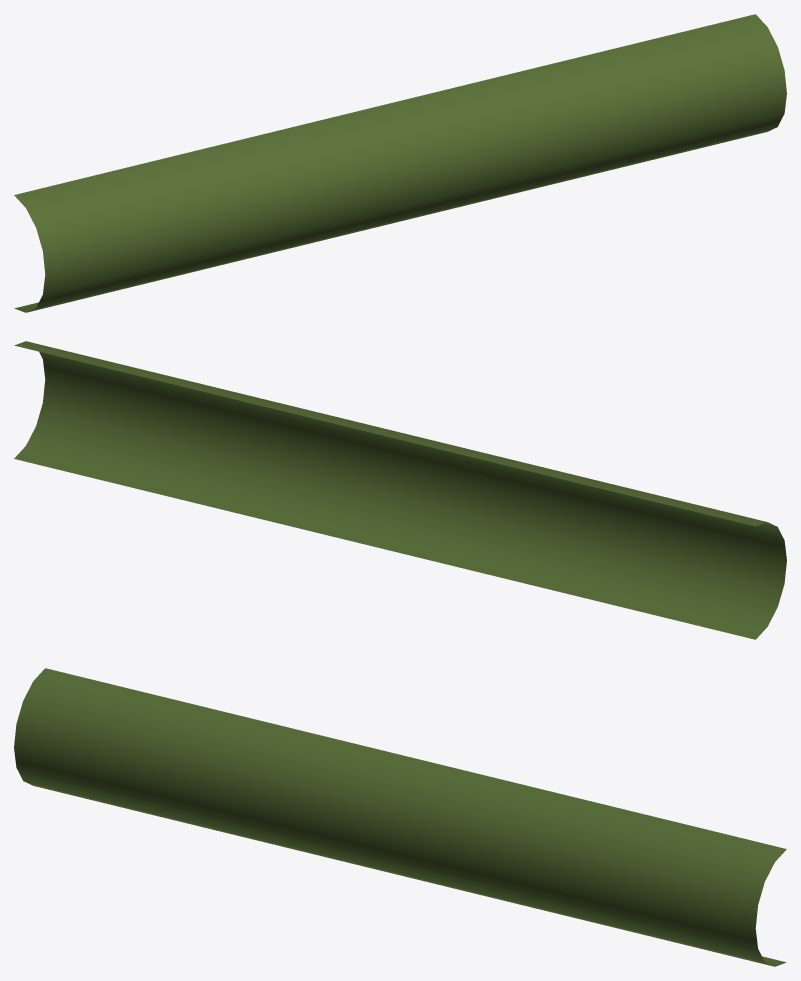
File: bazooka_view.glb
The picture shows the model from 3 angles, top to bottom: view 1: azimuth 30°, elevation 25°; view 2: azimuth 150°, elevation 25°; view 3: azimuth 330°, elevation 25°; orthographic projection.
Visible parts, largest first — view 1: Cylinder; view 2: Cylinder; view 3: Cylinder.
Boxes of the visible parts, x1,y1,x2,y2 form: Cylinder: (14, 14, 786, 312); Cylinder: (14, 341, 786, 639); Cylinder: (14, 668, 786, 966).
Bounding box in the file's own units: 0.685 × 0.1 × 0.05.
1 material, 1 textured.
